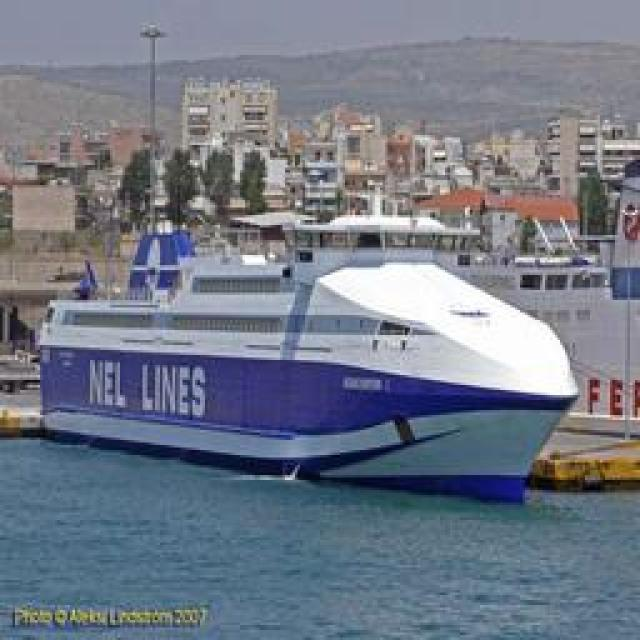CIV_Ship: (31, 212, 584, 486)
